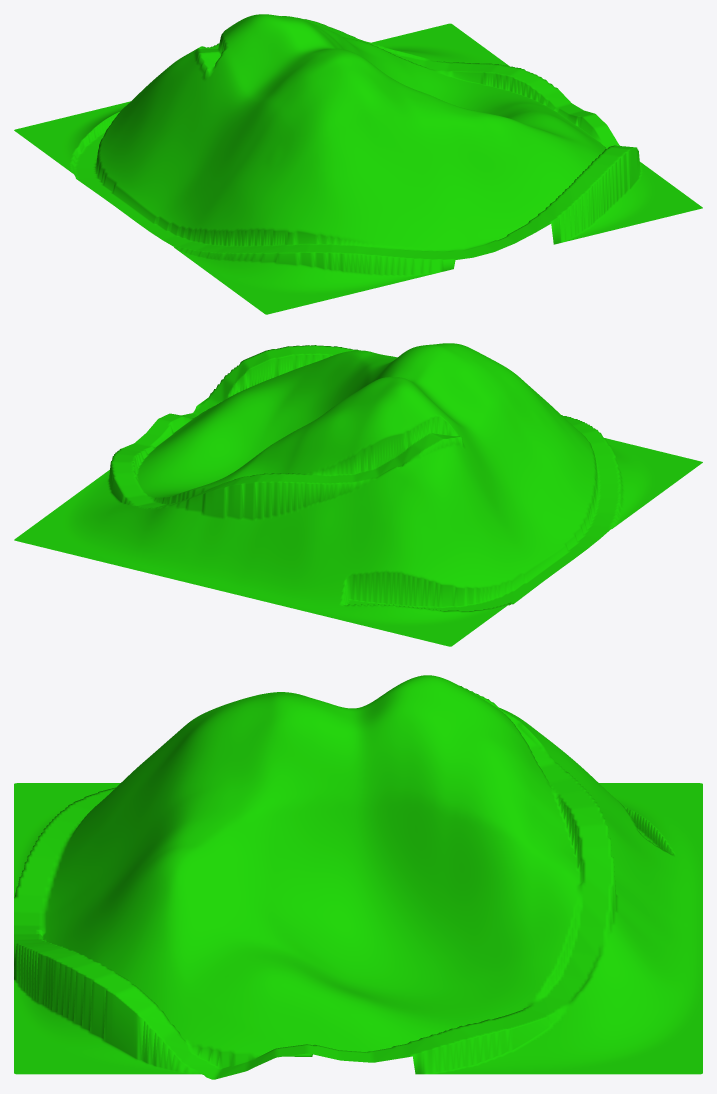
Rendered from road-terrain-1.glb.
3 views of the same model, one above another, from view 1: azimuth 30°, elevation 25°; view 2: azimuth 150°, elevation 25°; view 3: azimuth 270°, elevation 25° (orthographic). The views are drawn at different scales.
Parts seen in each view (by area): view 1: Landscape; view 2: Landscape; view 3: Landscape.
Boxes of the visible parts, bbox=[...] form: Landscape: bbox=[14, 14, 702, 314]; Landscape: bbox=[14, 343, 702, 646]; Landscape: bbox=[14, 675, 702, 1079].
Bounding box in the file's own units: 16 × 5.41 × 16.
